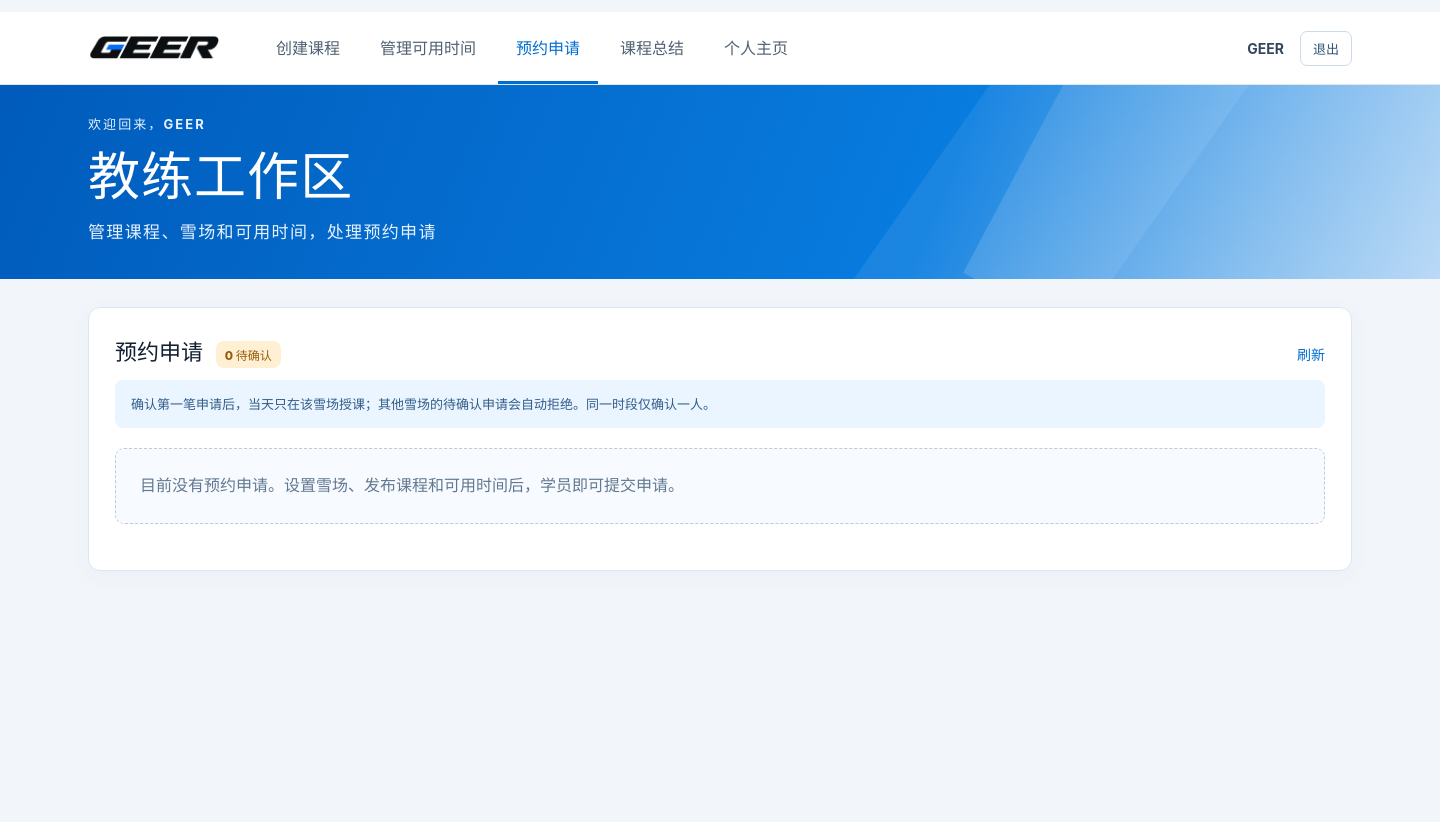
it: keeps loading more available when a page contains only archived courses
Click the button "创建课程" at x=308, y=48, box left=258, top=12, right=358, bottom=84
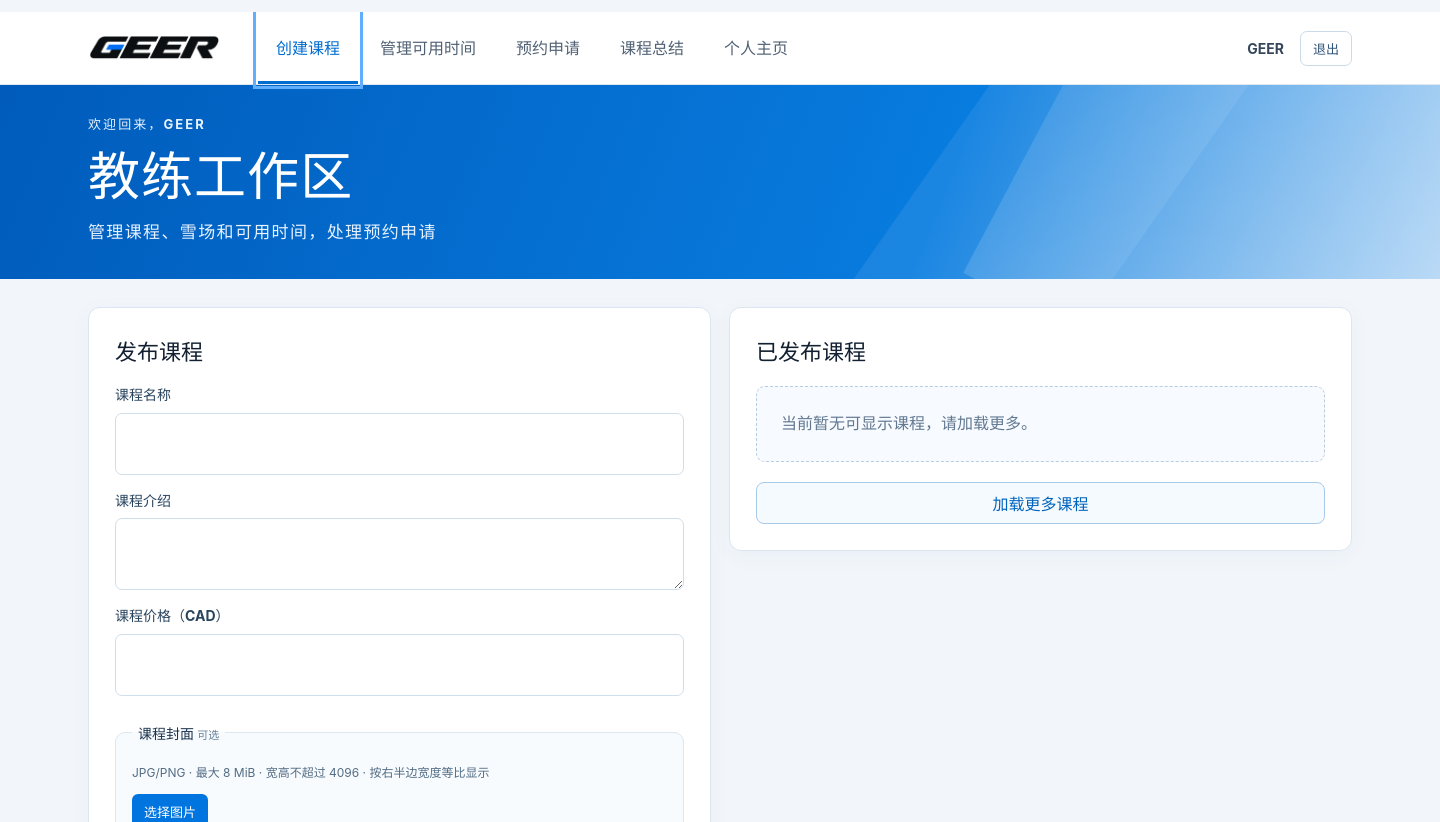
expect the text "当前暂无可显示课程，请加载更多。" is shown: met, box left=756, top=386, right=1325, bottom=462
Click the button "加载更多课程" at x=1040, y=503, box left=756, top=482, right=1325, bottom=524
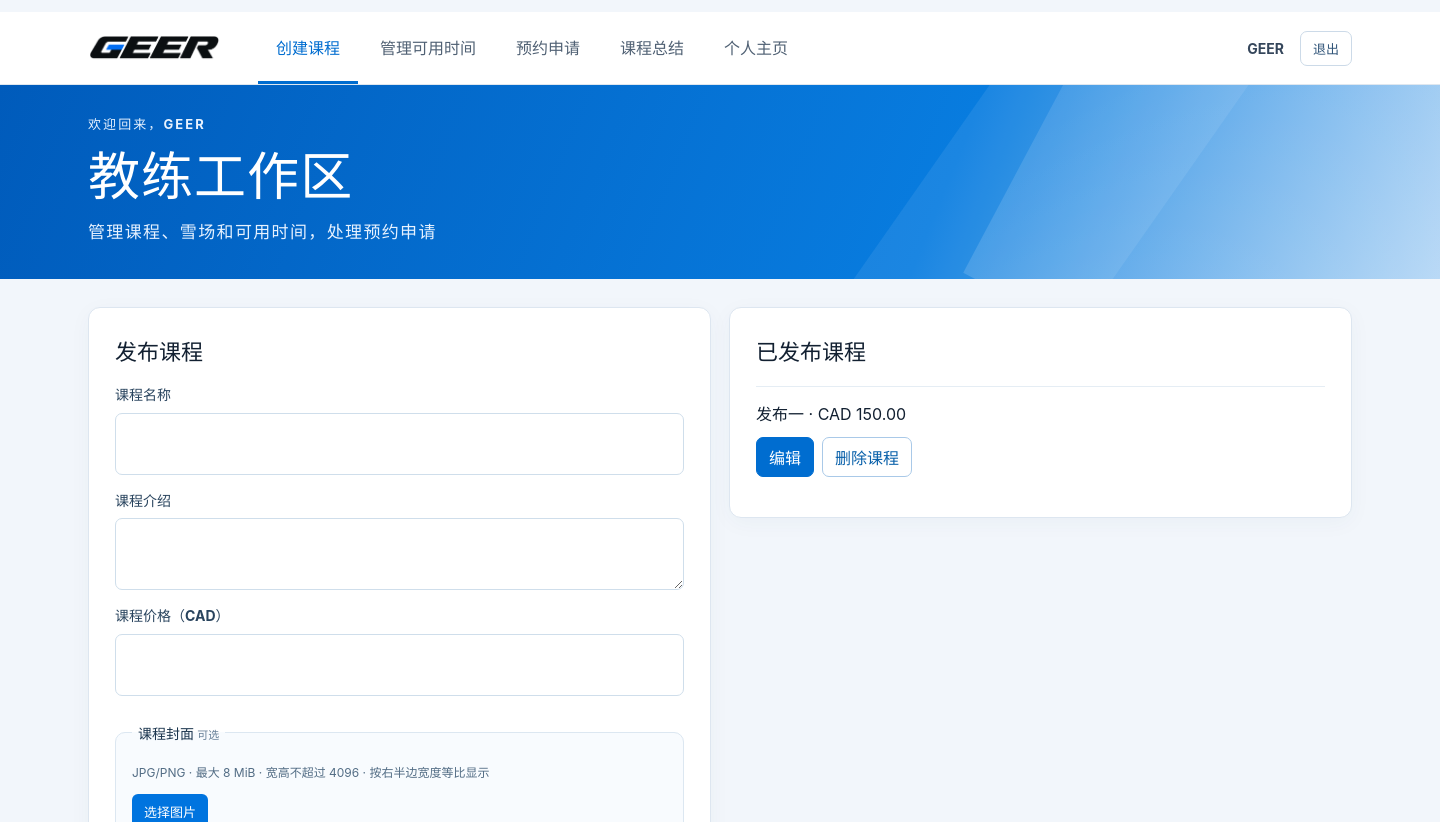
expect the text "发布一" is shown: met, box left=756, top=404, right=804, bottom=424
expect the text "当前暂无可显示课程，请加载更多。" is gone: met
expect the button "加载更多课程" is gone: met
